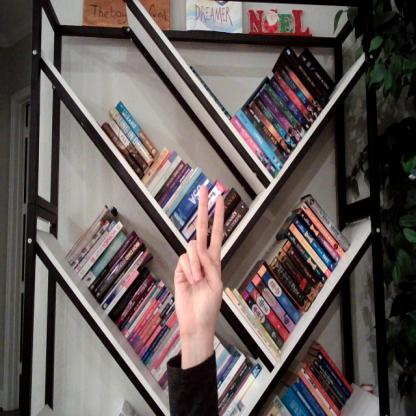two: (171, 185, 229, 330)
